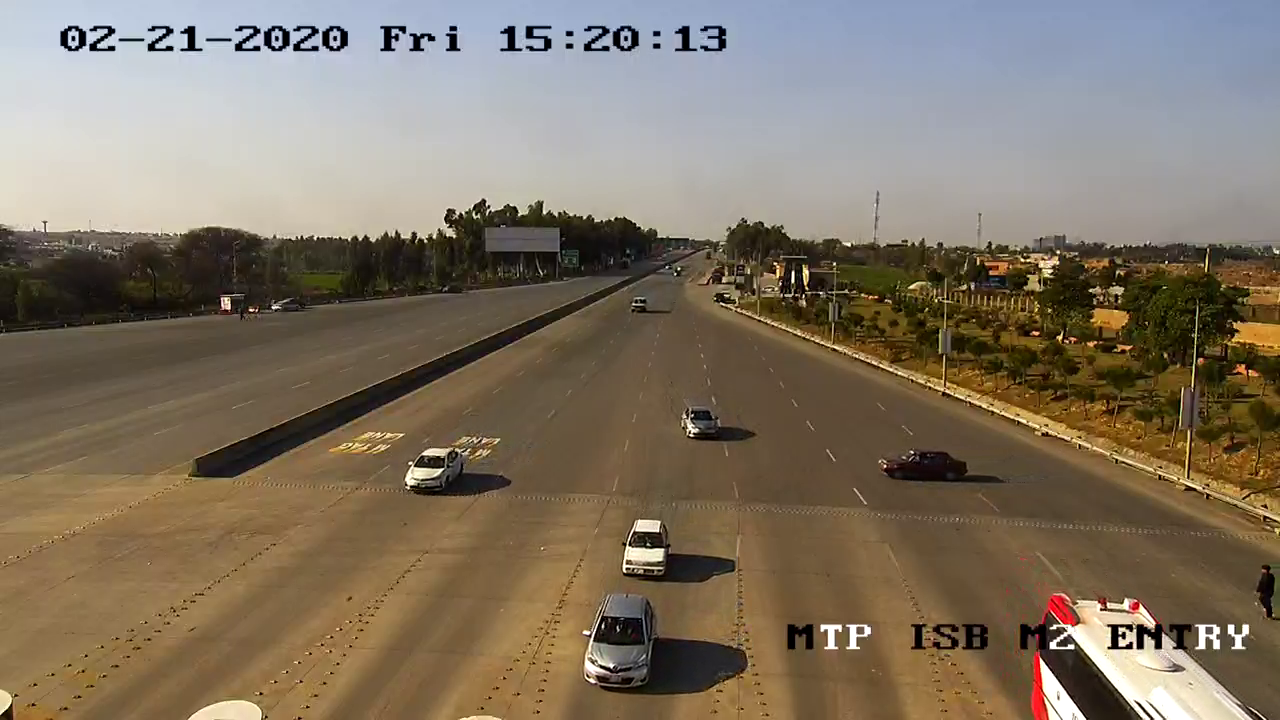f1: (577, 587, 667, 694), (397, 439, 468, 502), (619, 511, 680, 582), (678, 398, 728, 446)
